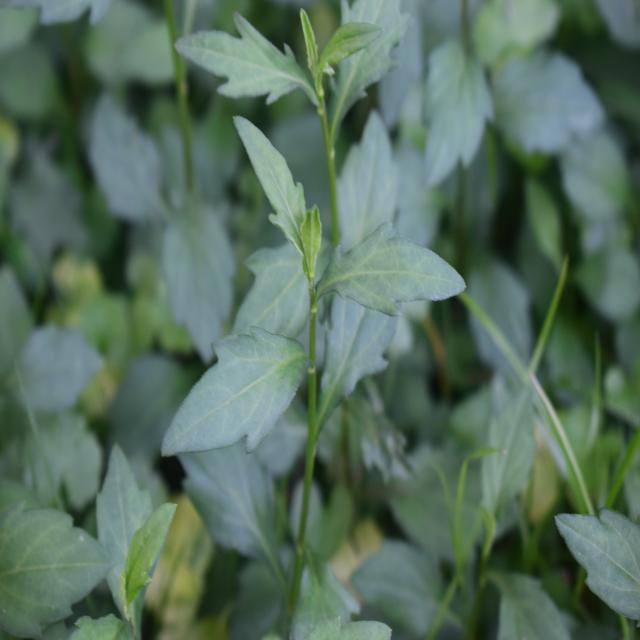Indian aster: (190, 0, 411, 564)
